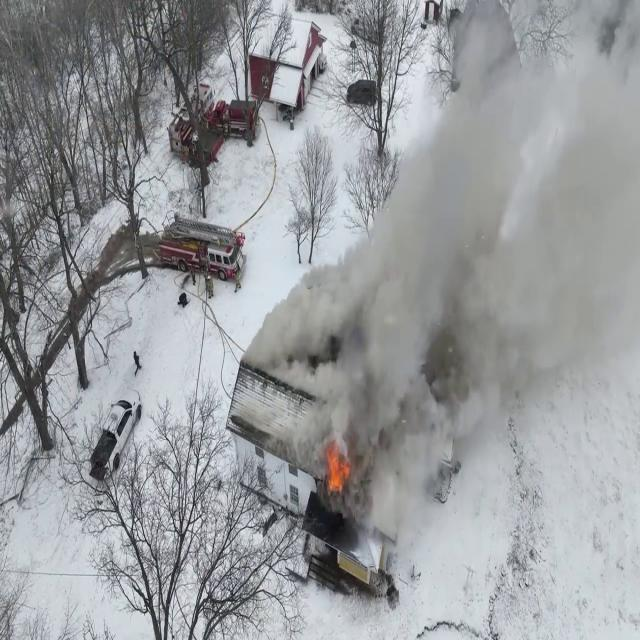Fire: (320, 432, 352, 500)
Smoke: (315, 1, 640, 616)
